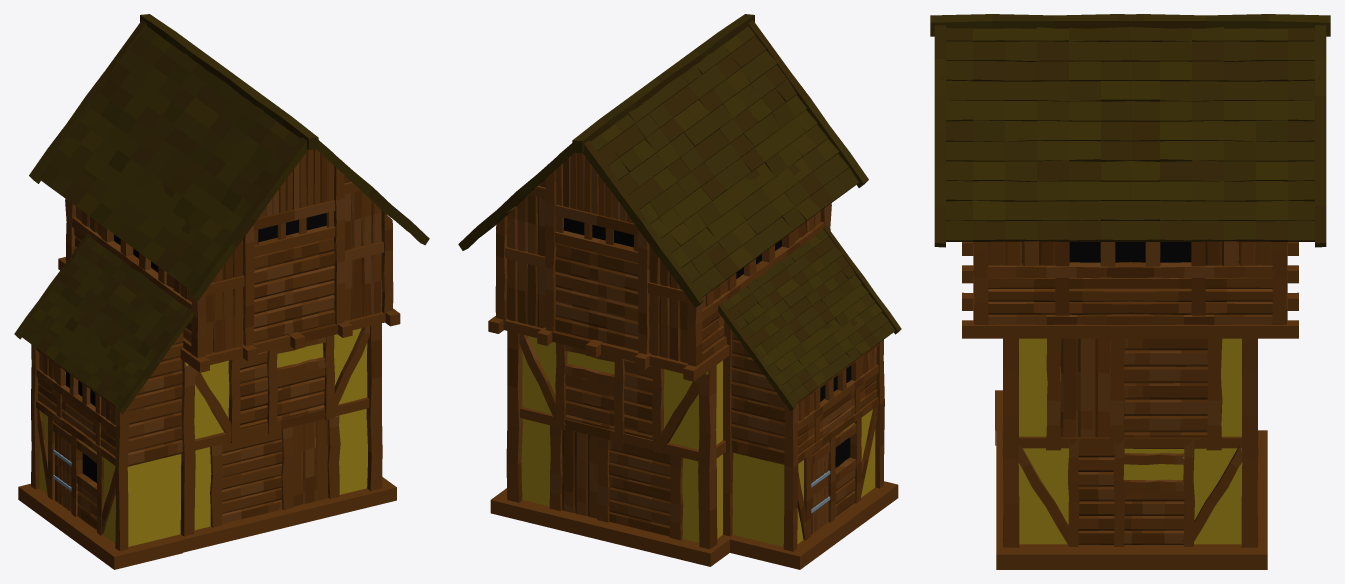
The model's file is castle_town_house_6.fbx.
3 views of the same model, side by side, from view 1: azimuth 30°, elevation 25°; view 2: azimuth 150°, elevation 25°; view 3: azimuth 270°, elevation 25° (orthographic). The views are drawn at different scales.
Visible parts, largest first — view 1: house 6; view 2: house 6; view 3: house 6.
Part boxes in pixels (<box>): house 6: <box>14,14,429,569</box>; house 6: <box>458,14,901,569</box>; house 6: <box>930,14,1330,569</box>.
Bounding box in the file's own units: 5985 × 8058 × 5940.
